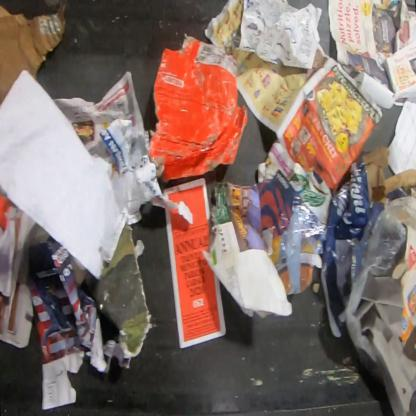cardboard: (319, 143, 415, 340), (146, 33, 250, 185), (0, 0, 68, 106), (391, 223, 415, 343)
soft_plastic: (344, 207, 407, 387), (272, 192, 327, 296)
